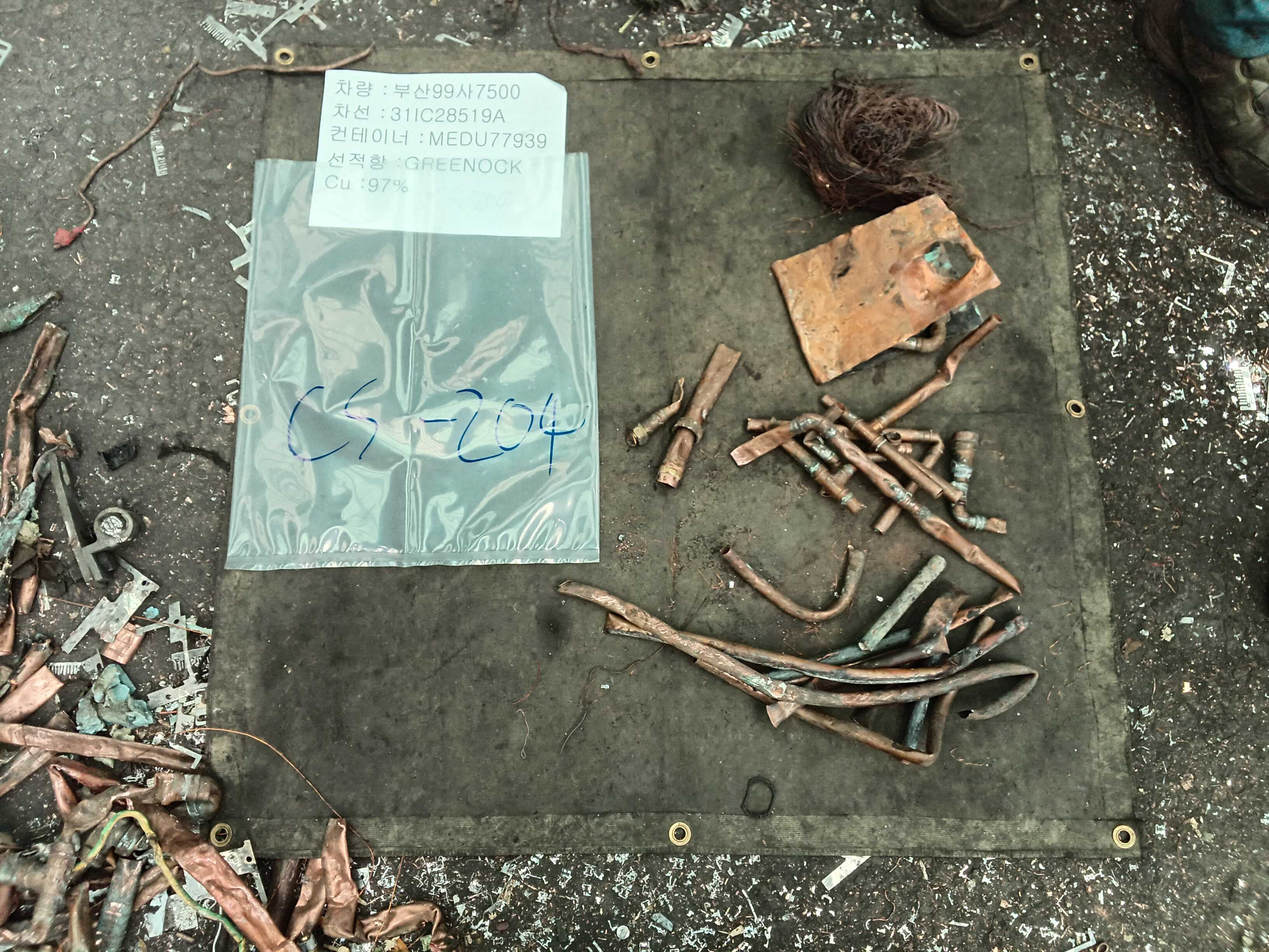Brass_Attach_70: (654, 342, 743, 490), (624, 381, 683, 447)
Burnt_Wire: (783, 69, 978, 215)
Copper_Elbows_92: (818, 394, 949, 500), (950, 430, 1010, 536)
Copper_Plates_93: (769, 193, 1003, 385)
Painted_Tubes_98: (719, 546, 869, 625)
Tinned_Copper: (1233, 366, 1256, 411), (149, 130, 168, 177)
